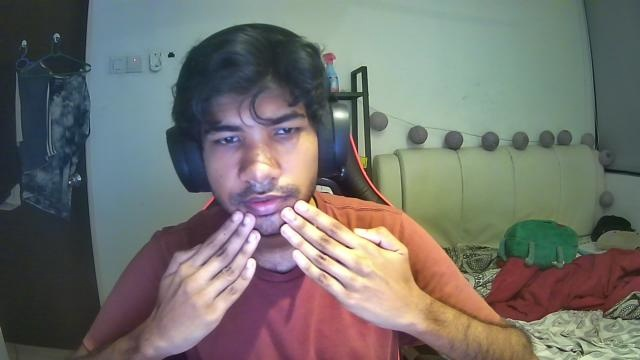Thank You: (155, 200, 419, 348)
